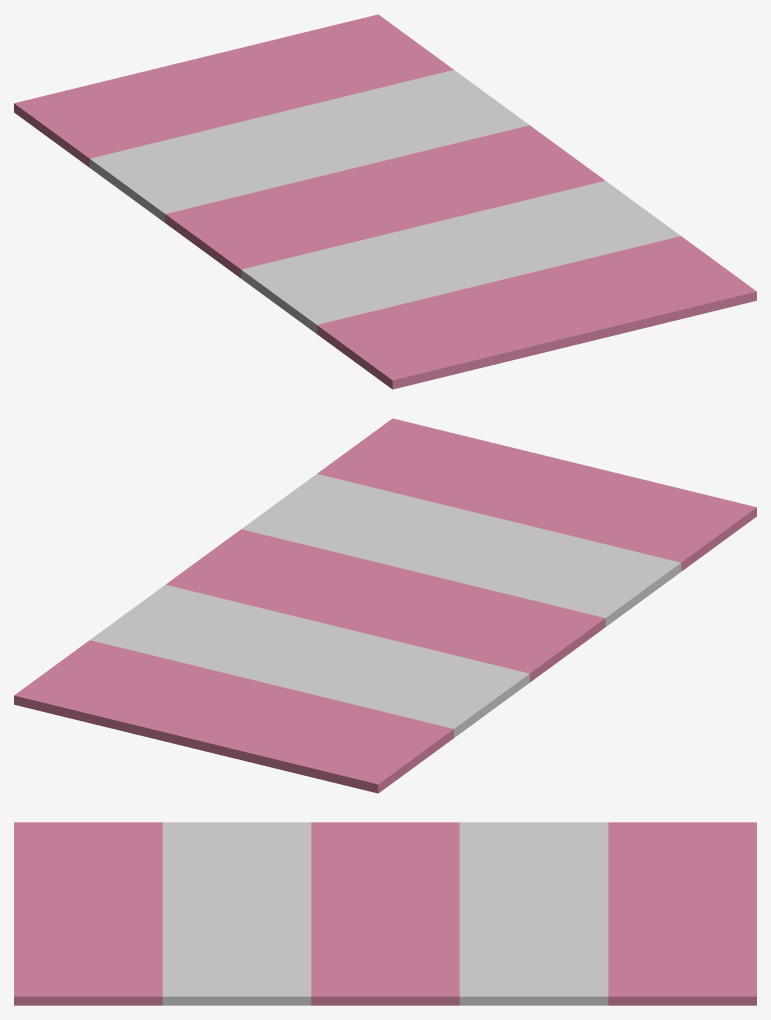
The model's file is towel_b.fbx.
3 renders of one model, top to bottom at view 1: azimuth 30°, elevation 25°; view 2: azimuth 150°, elevation 25°; view 3: azimuth 270°, elevation 25°, orthographic.
Parts seen in each view (by area): view 1: towel_b; view 2: towel_b; view 3: towel_b.
Boxes of the visible parts, x1=… form: towel_b: x1=14, y1=14, x2=756, y2=389; towel_b: x1=14, y1=418, x2=756, y2=793; towel_b: x1=14, y1=822, x2=756, y2=1005.
Bounding box in the file's own units: 0.5 × 0.012 × 0.9.
